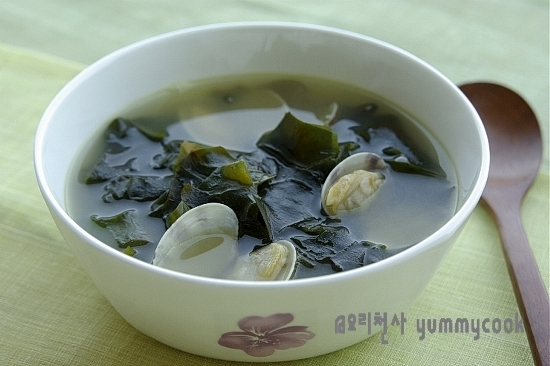miyeoggug: (63, 45, 458, 286)
